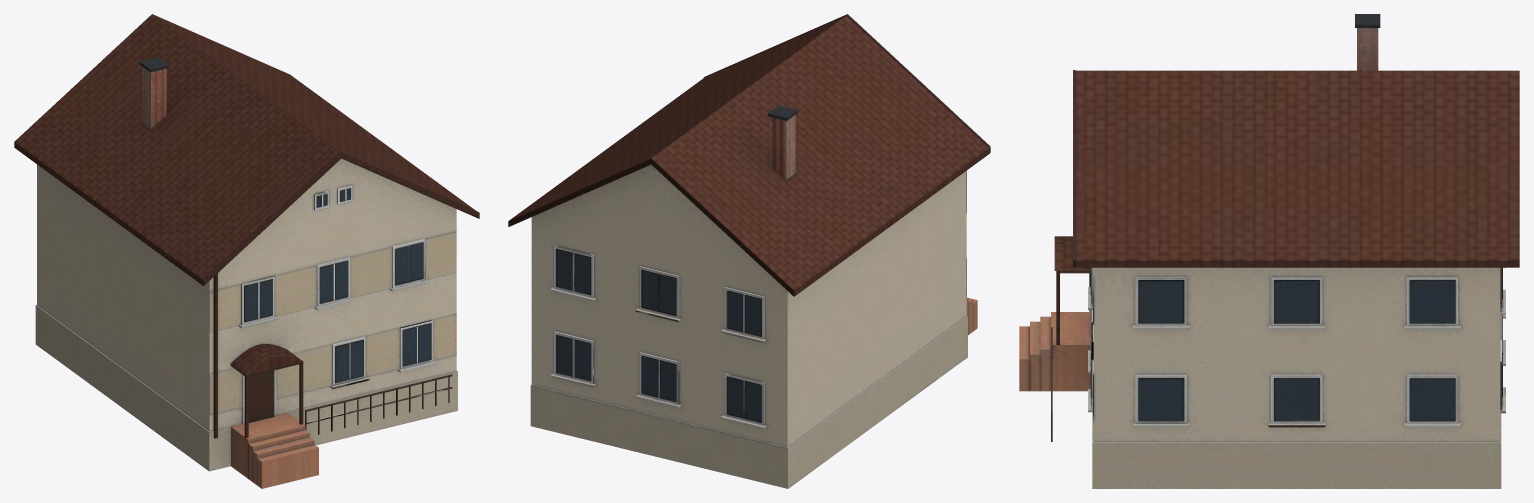
The model's file is przedszkole2.glb.
The picture shows the model from 3 angles, left to right: view 1: azimuth 30°, elevation 25°; view 2: azimuth 150°, elevation 25°; view 3: azimuth 270°, elevation 25°; orthographic projection. The views are drawn at different scales.
Parts seen in each view (by area): view 1: przedszkole2; view 2: przedszkole2; view 3: przedszkole2.
Part boxes in pixels (x1,y1,x2,y2): przedszkole2: (14,14,479,488); przedszkole2: (508,14,990,488); przedszkole2: (1019,14,1519,488).
Bounding box in the file's own units: 10.6 × 11.3 × 14.15.
1 material, 1 textured.
